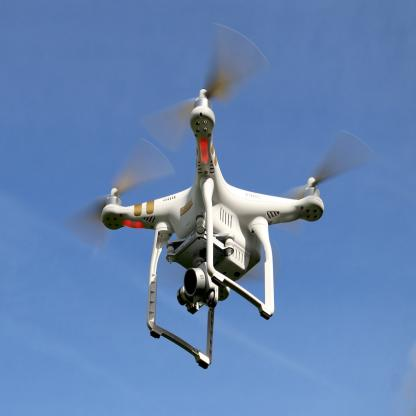drone: (83, 71, 339, 296)
